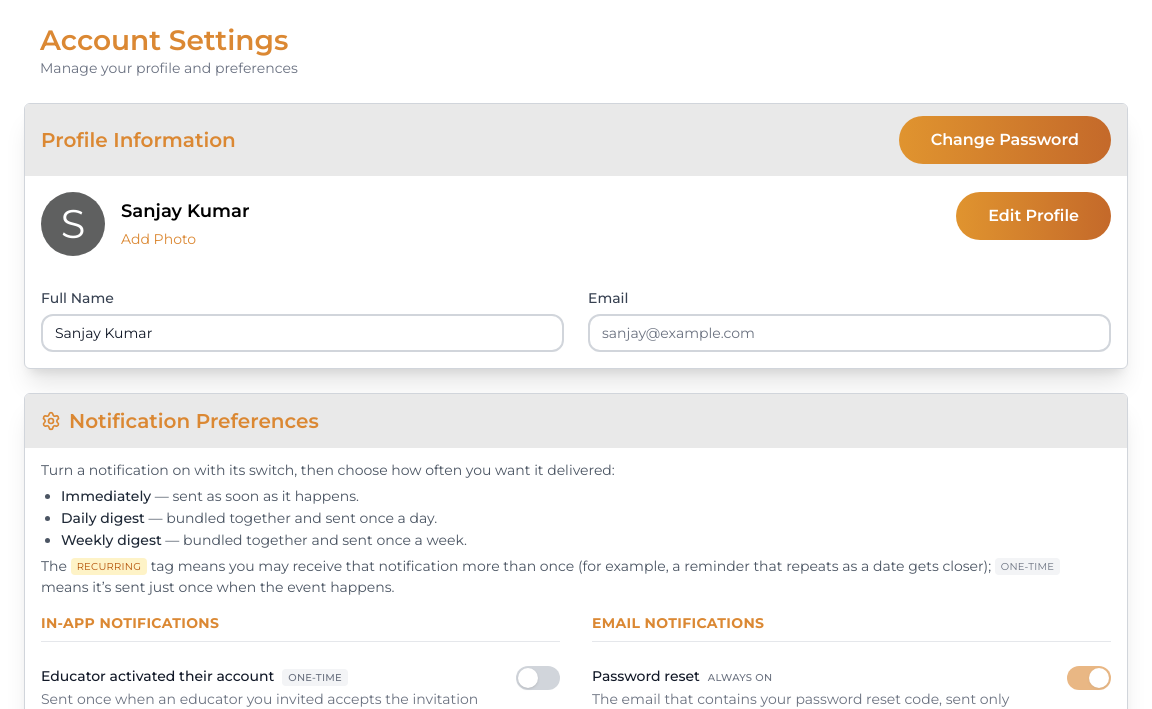
it: Account Page + Modal Integration › PasswordModal — open / close / submit flow › opens PasswordModal when "Change Password" button is clicked
Click the button "Change Password".
click(1005, 140)  # box [899,116,1111,164]
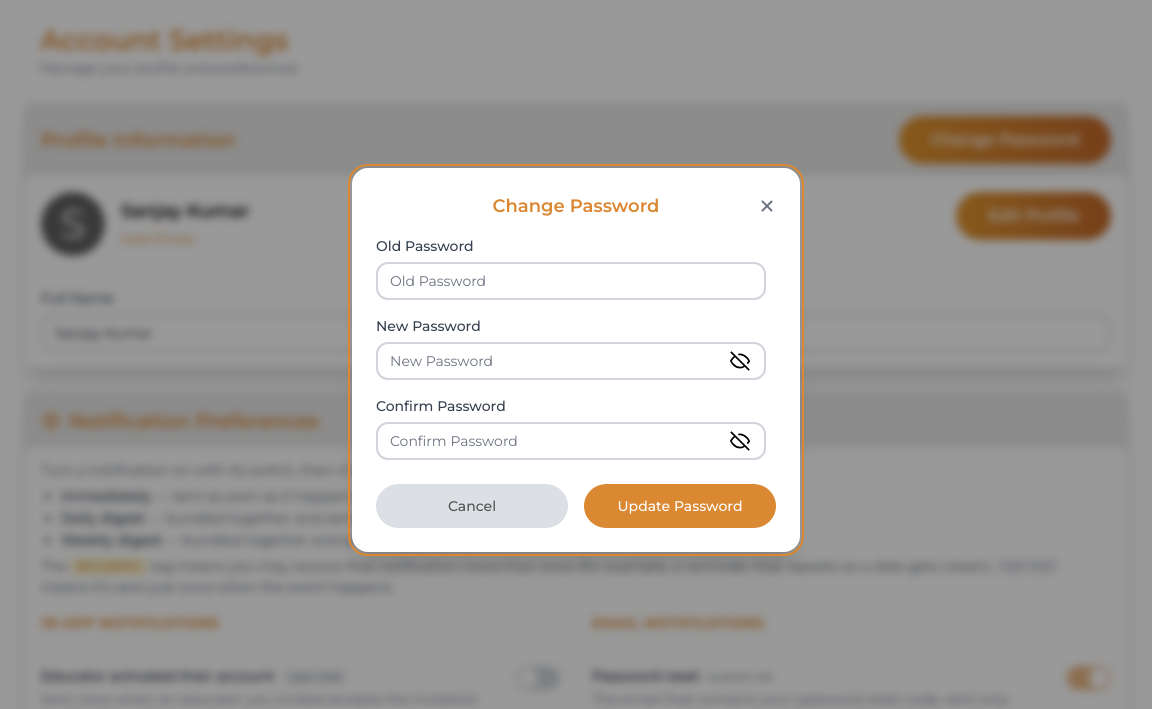
Expected: the text "Old Password" is shown, [376,237,474,255]
